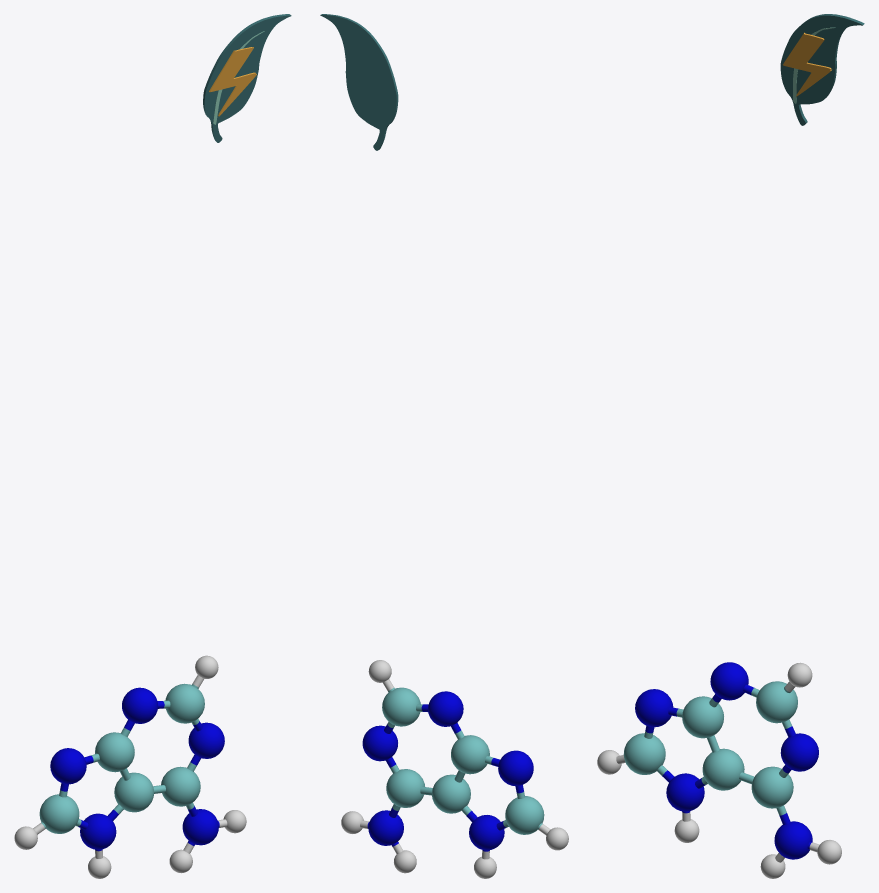
File: adenina.glb
The picture shows the model from 3 angles, left to right: view 1: azimuth 30°, elevation 25°; view 2: azimuth 150°, elevation 25°; view 3: azimuth 330°, elevation 25°; orthographic projection. The views are drawn at different scales.
Visible parts, largest first — view 1: adenina, path182, path186; view 2: adenina, path182; view 3: adenina, path182, path186.
Boxes of the visible parts, box(x1,y1,x2,y2) form: adenina: box(14, 655, 246, 878); path182: box(203, 14, 291, 142); path186: box(209, 47, 256, 116); adenina: box(341, 660, 568, 878); path182: box(320, 14, 398, 150); adenina: box(597, 662, 841, 878); path182: box(780, 14, 864, 125); path186: box(783, 32, 831, 96).
Size of the model in its own units: 1.89 by 5.8 by 0.2822.
